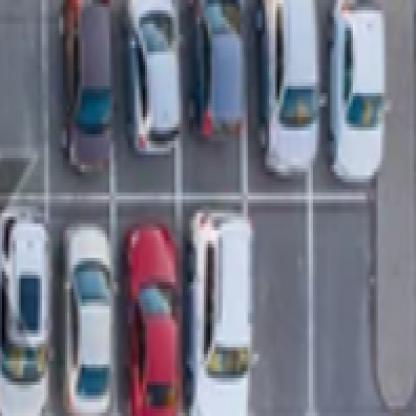Car: (188, 205, 257, 416), (121, 212, 188, 416), (60, 210, 114, 416), (0, 210, 54, 415), (333, 0, 384, 180), (66, 8, 120, 176), (263, 0, 319, 155), (130, 9, 173, 179), (198, 23, 232, 141)
Empty: (316, 212, 374, 402), (257, 214, 309, 402), (0, 23, 47, 174)
